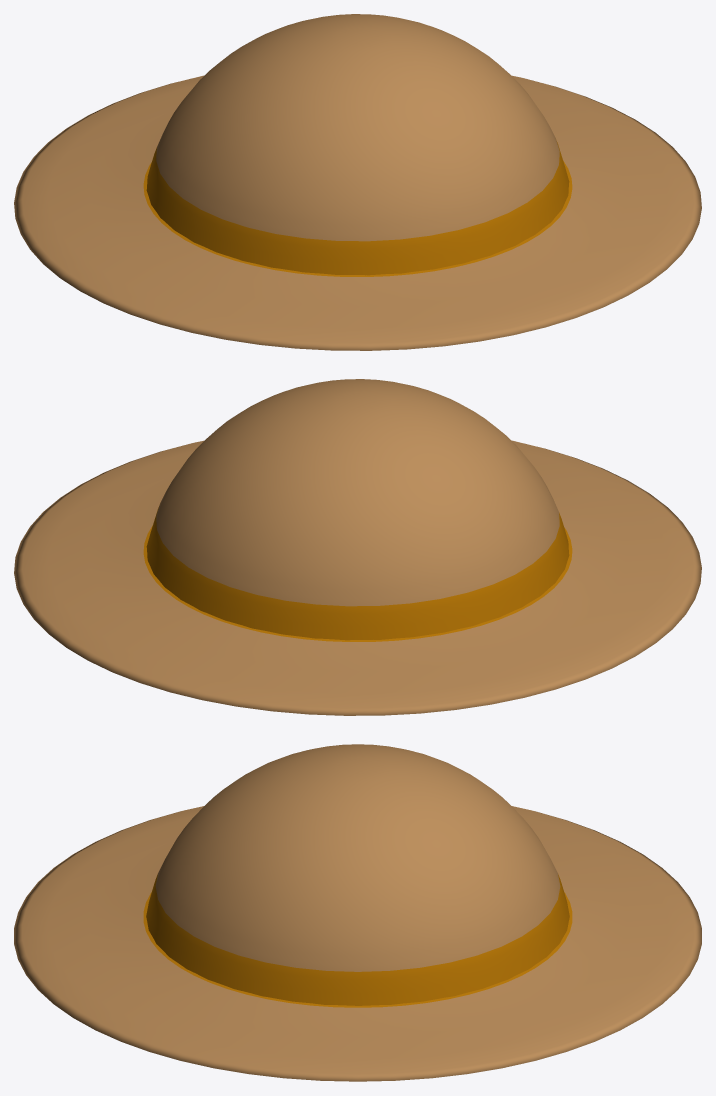
Rendered from Hat.fbx.
3 renders of one model, top to bottom at view 1: azimuth 30°, elevation 25°; view 2: azimuth 150°, elevation 25°; view 3: azimuth 270°, elevation 25°, orthographic.
Visible parts, largest first — view 1: pSphere4; view 2: pSphere4; view 3: pSphere4.
Boxes of the visible parts, bbox=[...] form: pSphere4: bbox=[14, 14, 701, 350]; pSphere4: bbox=[14, 379, 701, 715]; pSphere4: bbox=[14, 744, 701, 1081].
Bounding box in the file's own units: 1.94 × 0.535 × 1.94.
